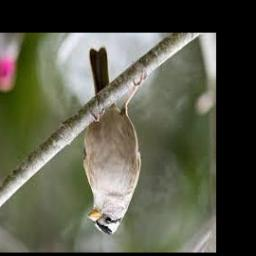Sparrow: (82, 48, 146, 235)
